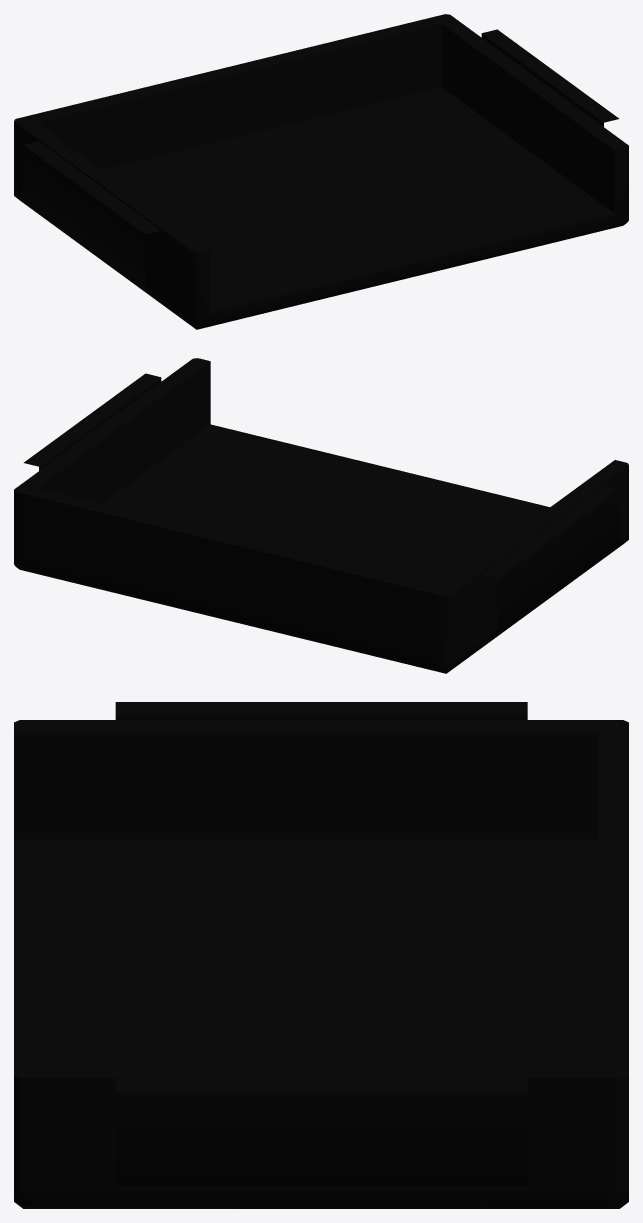
3 renders of one model, top to bottom at view 1: azimuth 30°, elevation 25°; view 2: azimuth 150°, elevation 25°; view 3: azimuth 270°, elevation 25°, orthographic. The views are drawn at different scales.
Visible parts, largest first — view 1: Joint_0_Object_1, Joint_0_Object_0, Joint_0_Object_2; view 2: Joint_0_Object_0, Joint_0_Object_1, Joint_0_Object_2; view 3: Joint_0_Object_1, Joint_0_Object_0, Joint_0_Object_2.
Part boxes in pixels (left/top/right/bottom): Joint_0_Object_1: left=37, top=24, right=614, bottom=312; Joint_0_Object_0: left=14, top=14, right=628, bottom=329; Joint_0_Object_2: left=23, top=29, right=619, bottom=289; Joint_0_Object_0: left=14, top=358, right=628, bottom=673; Joint_0_Object_1: left=37, top=361, right=549, bottom=586; Joint_0_Object_2: left=23, top=373, right=619, bottom=633; Joint_0_Object_1: left=14, top=732, right=598, bottom=1065; Joint_0_Object_0: left=14, top=720, right=628, bottom=1208; Joint_0_Object_2: left=115, top=702, right=527, bottom=1186.
Size of the model in its own units: 1500 by 245 by 1000.
3 materials, 3 textured.
